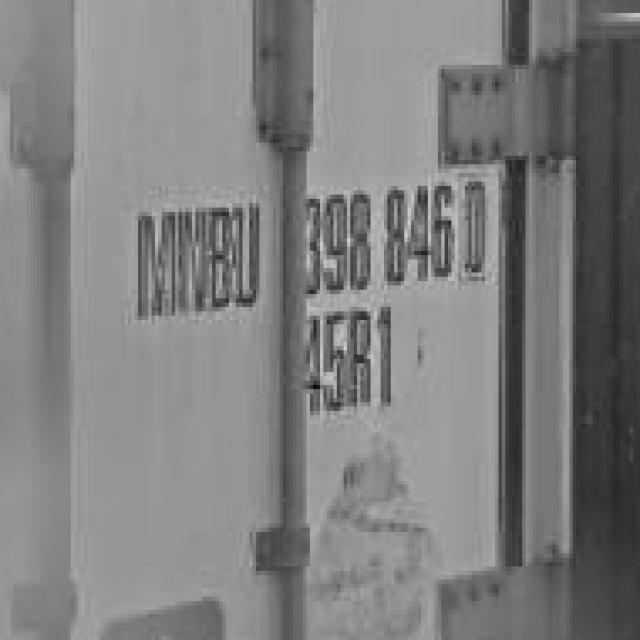dv: (460, 161, 494, 284)
owner: (105, 182, 266, 329)
serial: (301, 171, 455, 297)
size: (294, 302, 411, 429)
